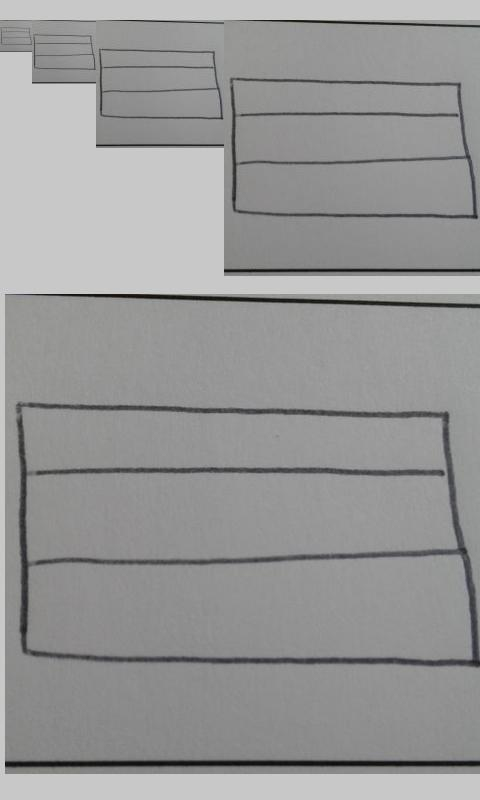list_view: (14, 396, 479, 673), (229, 75, 479, 219), (98, 47, 224, 120), (33, 34, 96, 70), (1, 26, 32, 46)
